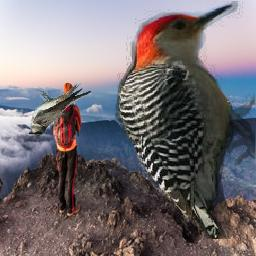Swallow: (27, 84, 91, 137)
Woodpecker: (113, 1, 255, 239)
